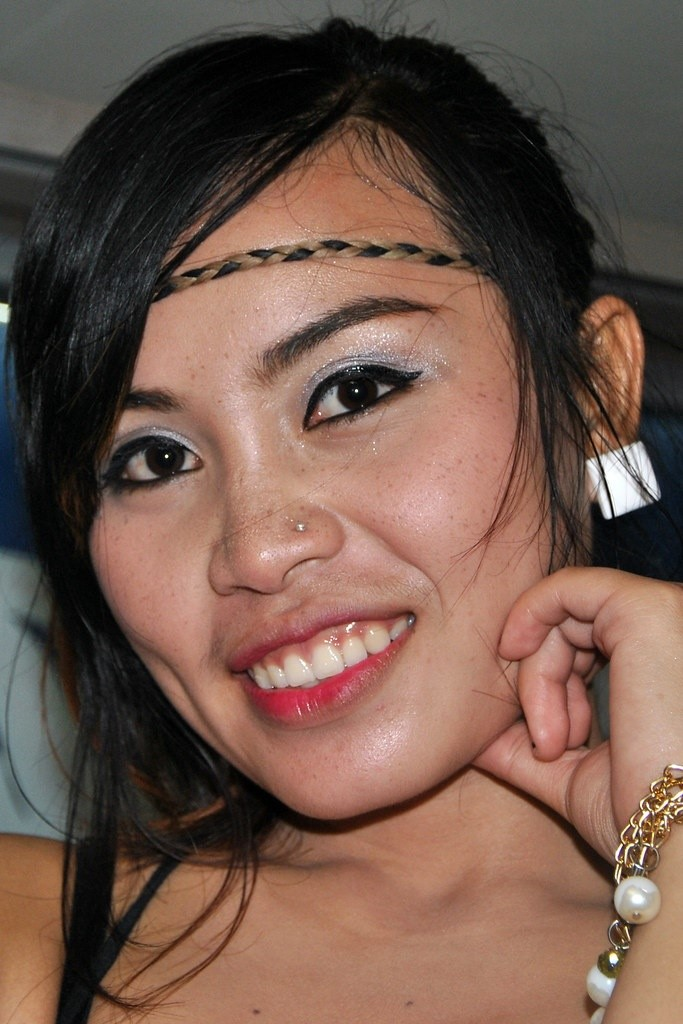face_no_mask: (22, 22, 635, 821)
